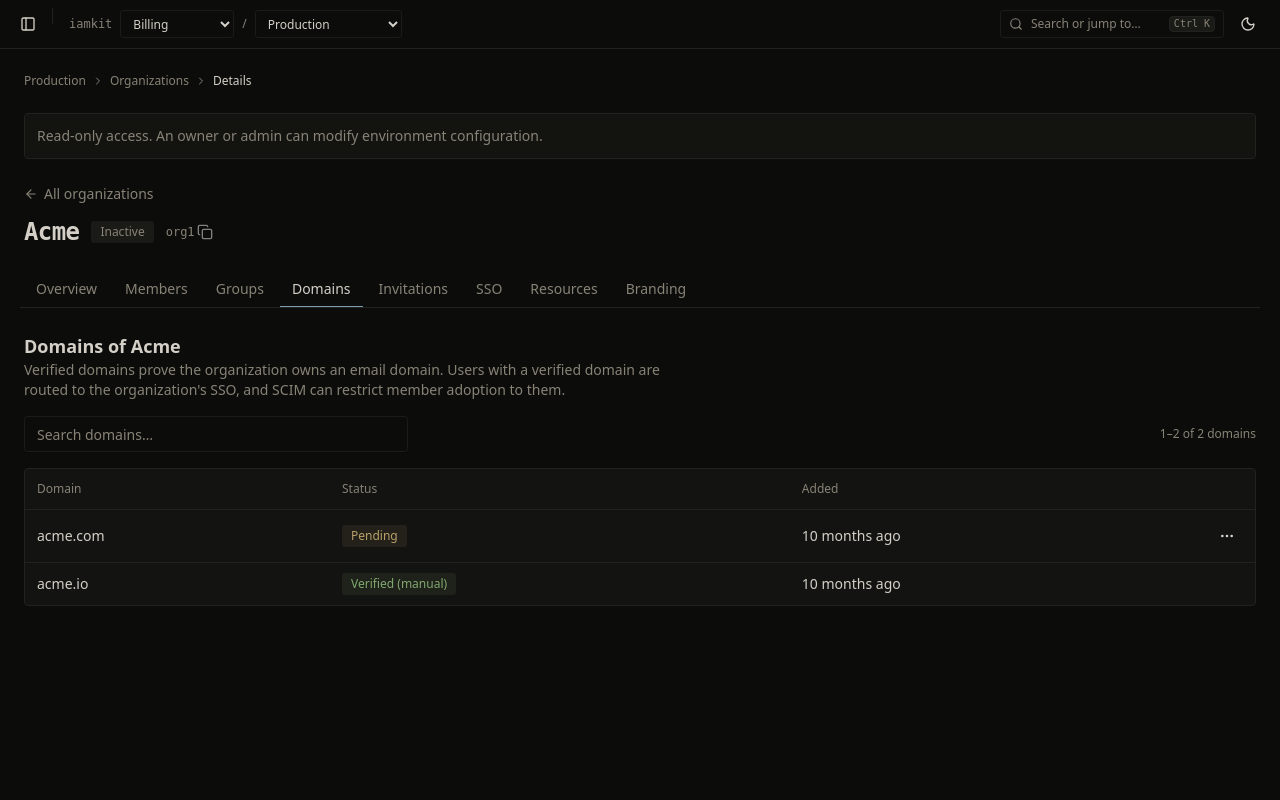
Test: hides mutations from viewers
Expected: the text "acme.com" is shown, [37, 526, 105, 544]
Click the button named "Actions for acme.com" at coordinates (1227, 536), box [1211, 520, 1243, 552]
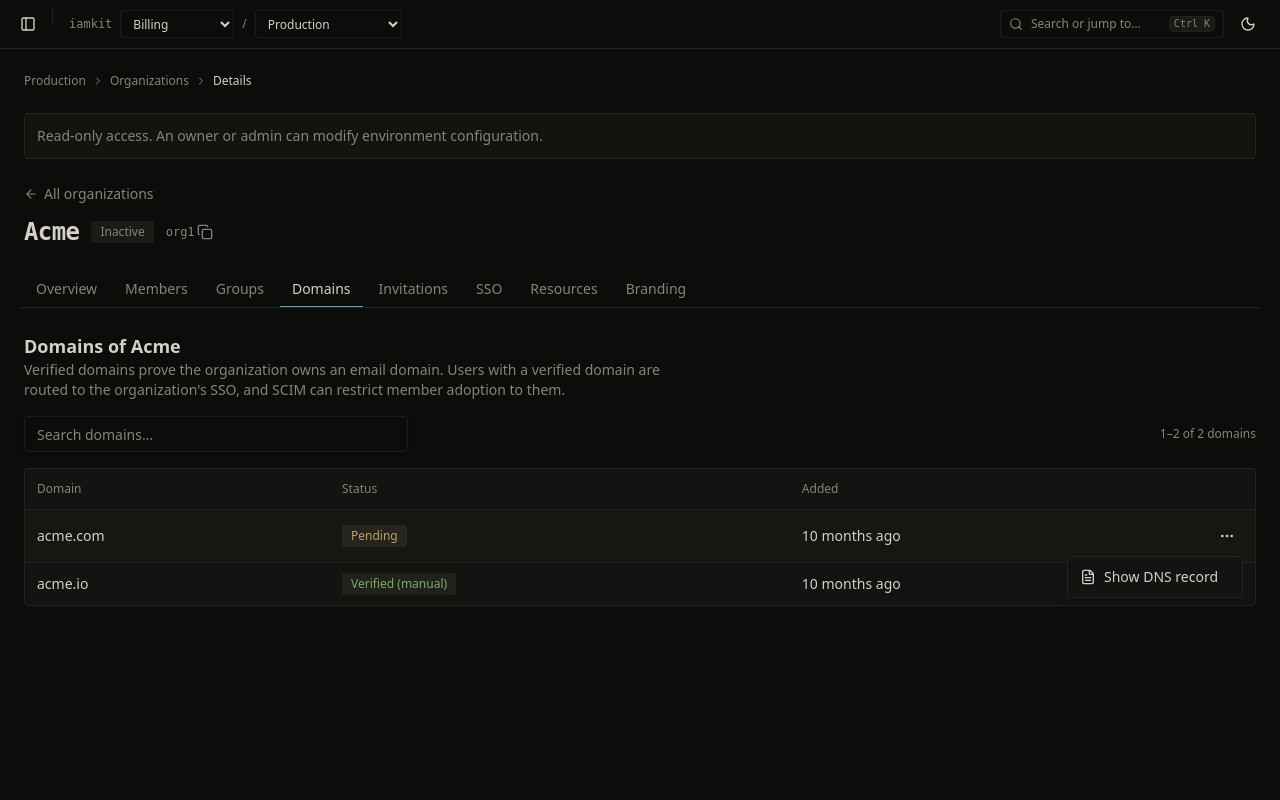
Expected: the menu item "Show DNS record" is shown, [1080, 567, 1218, 586]
